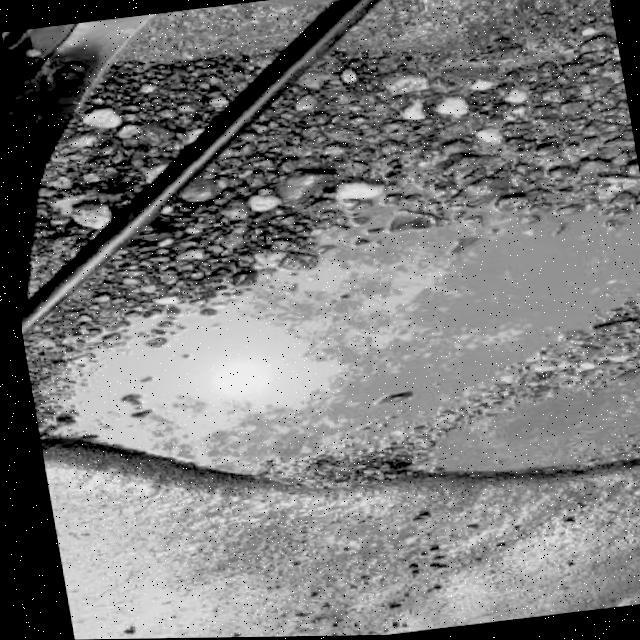pothole: (7, 134, 640, 546)
